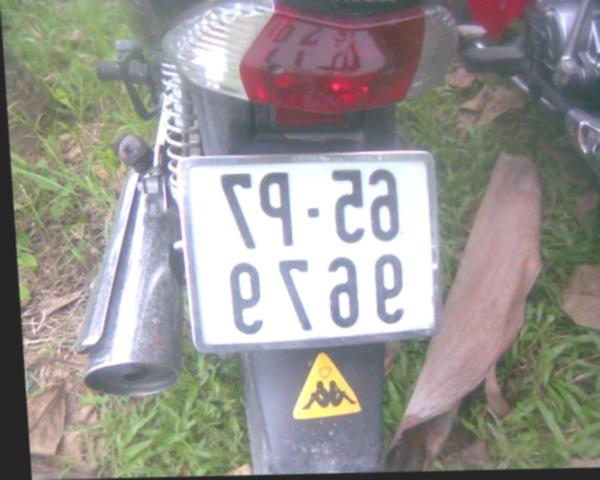License_Plate: (168, 146, 448, 355)
